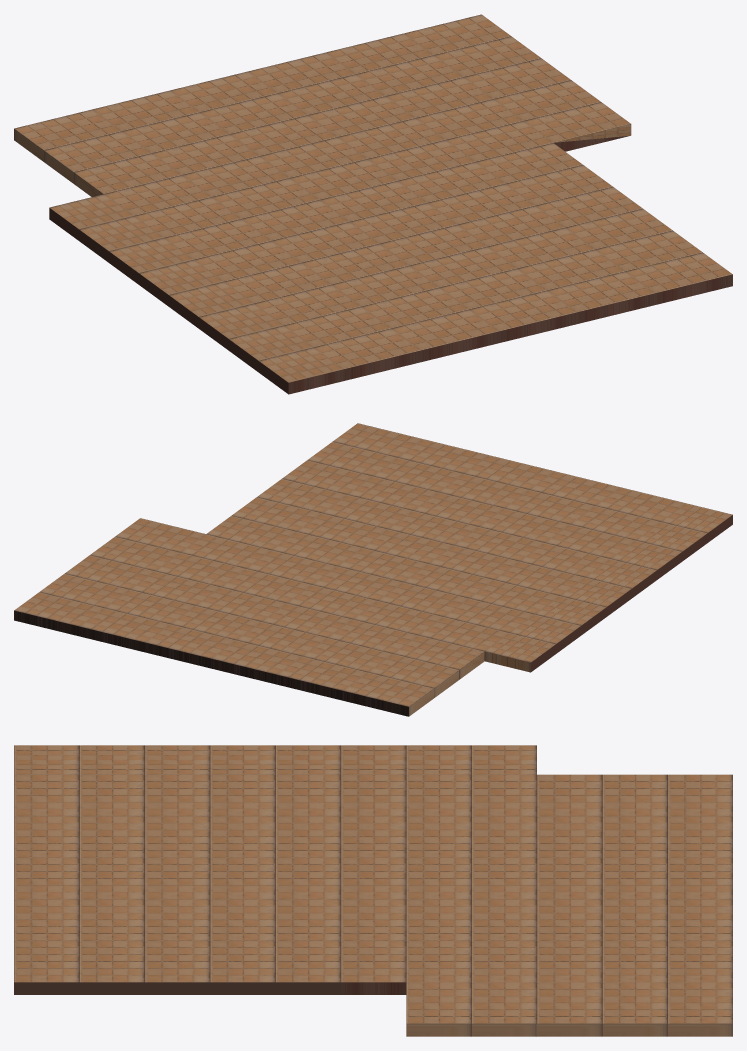
File: NewRoof.fbx
3 views of the same model, one above another, from view 1: azimuth 30°, elevation 25°; view 2: azimuth 150°, elevation 25°; view 3: azimuth 270°, elevation 25° (orthographic). The views are drawn at different scales.
Parts seen in each view (by area): view 1: Plane; view 2: Plane; view 3: Plane.
Boxes of the visible parts, x1,y1,x2,y2 form: Plane: (14, 14, 732, 394); Plane: (14, 423, 732, 716); Plane: (14, 745, 732, 1036).
Bounding box in the file's own units: 7146 × 153 × 7803.
Materials: 1 (1 with a texture image).
